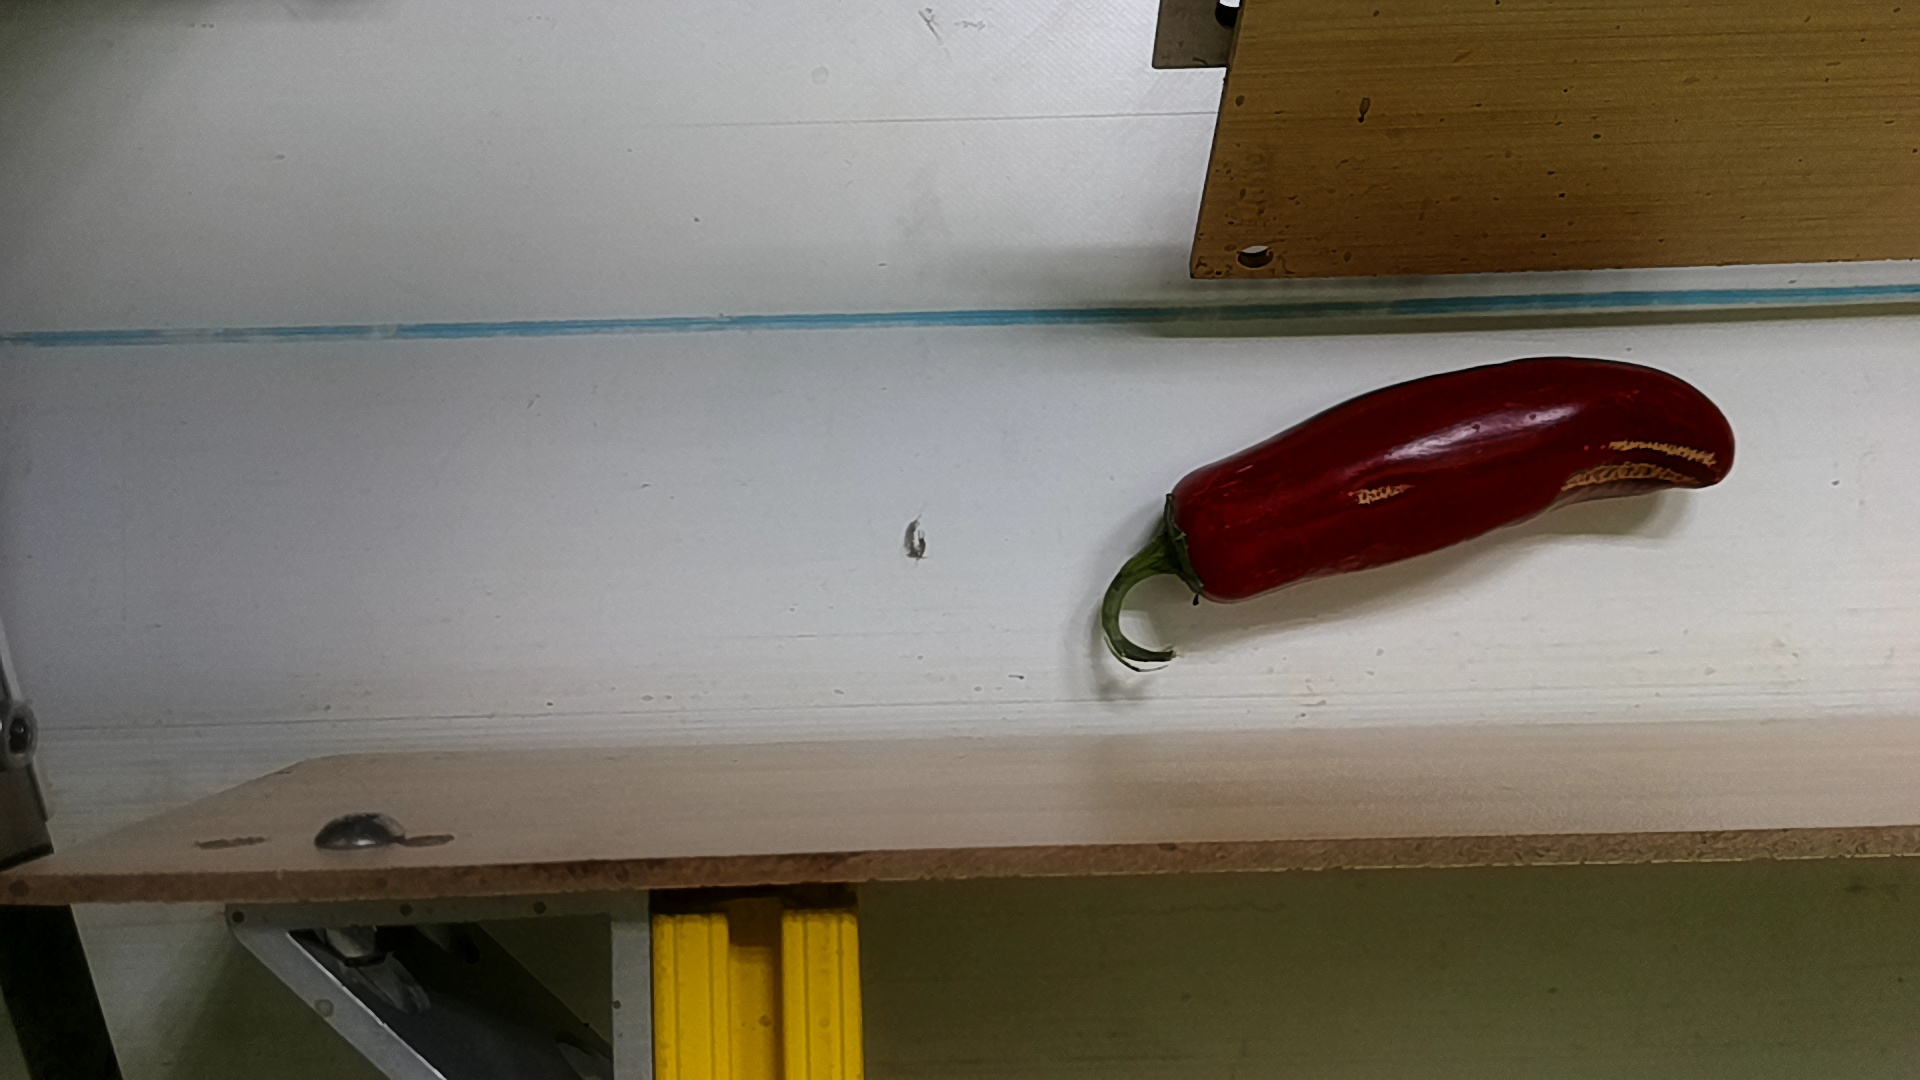Cut Point: (1150, 465, 1236, 612)
